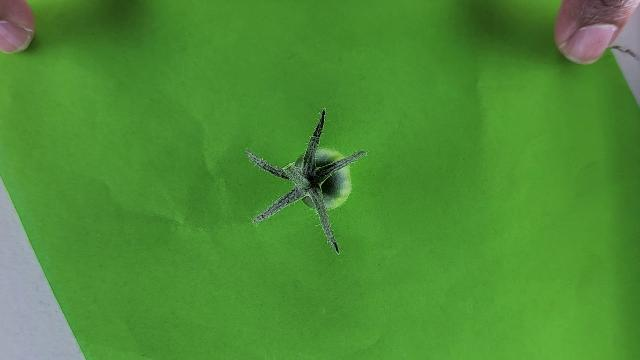Fruit Maturation: (293, 146, 353, 212)
